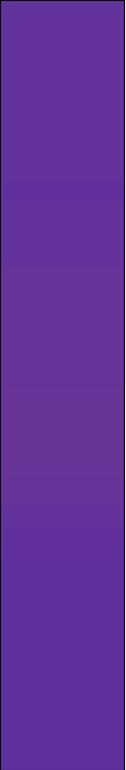safe: (15, 14, 111, 751)
